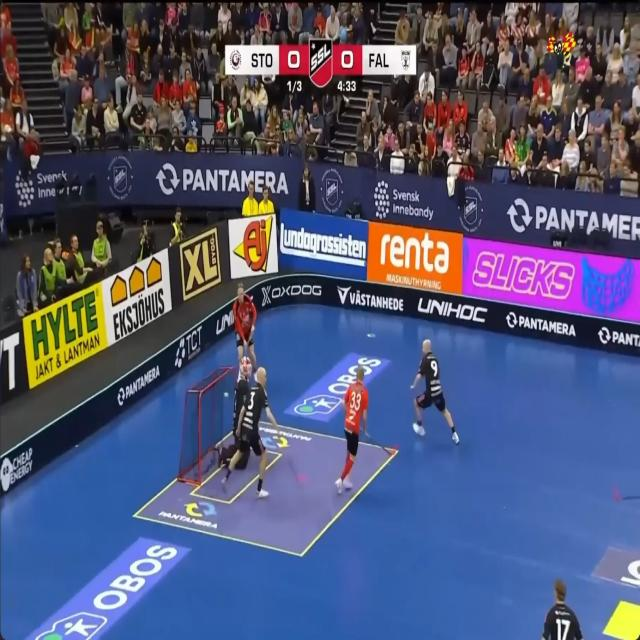Balls: (223, 391, 228, 397)
player: (222, 367, 278, 496), (411, 339, 459, 444), (335, 367, 368, 494), (218, 356, 252, 466), (542, 580, 582, 639), (233, 282, 256, 371), (235, 450, 249, 468)
stick: (363, 431, 397, 455)
